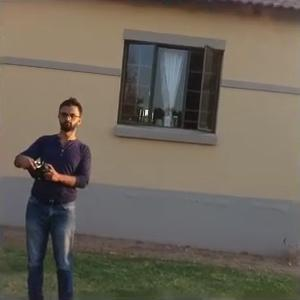follow: (8, 94, 95, 298)
null: (277, 232, 298, 268)
